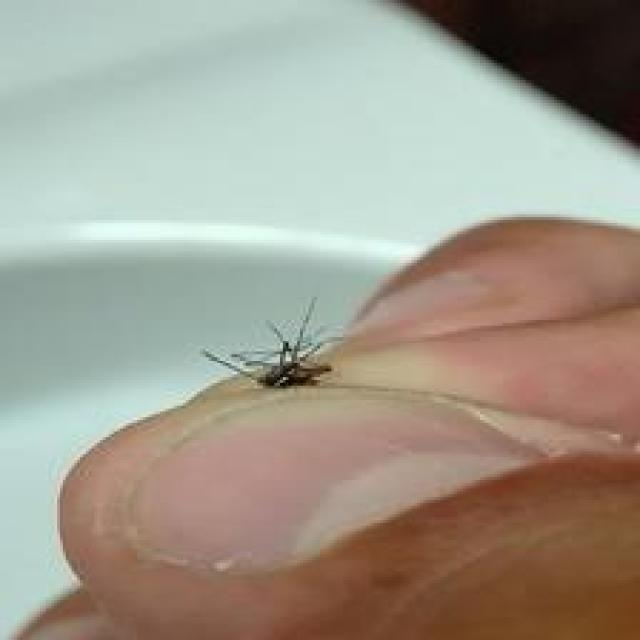Aedes albopictus: (202, 294, 344, 392)
